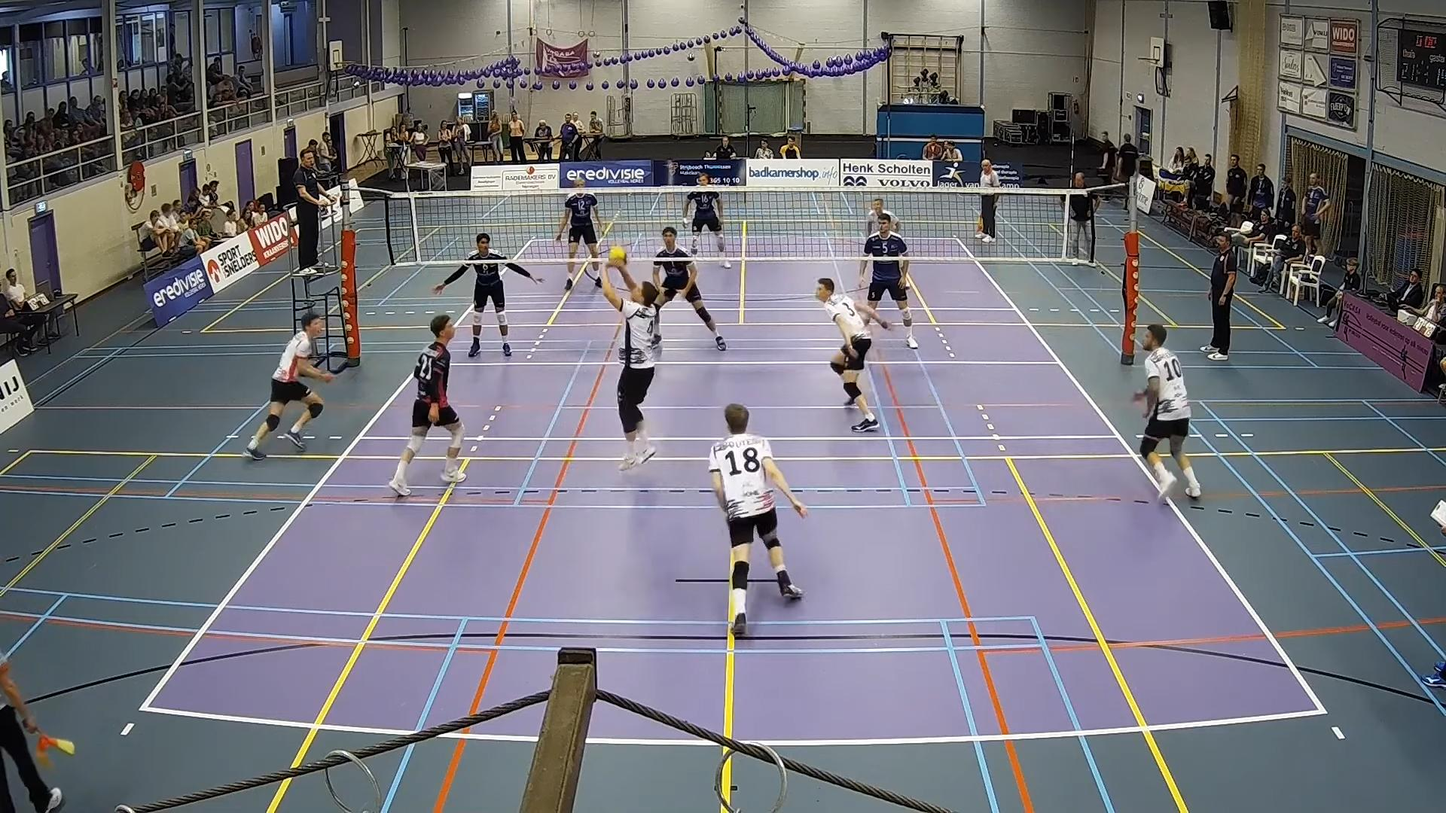Player: (709, 403, 807, 636), (388, 315, 465, 496), (432, 233, 543, 357), (246, 312, 334, 460), (816, 278, 889, 432), (1136, 324, 1200, 499), (653, 227, 725, 350), (859, 212, 917, 349), (554, 179, 602, 289), (683, 173, 725, 256), (866, 198, 901, 236)
Set: (597, 260, 673, 476)
ball: (605, 246, 633, 265)
